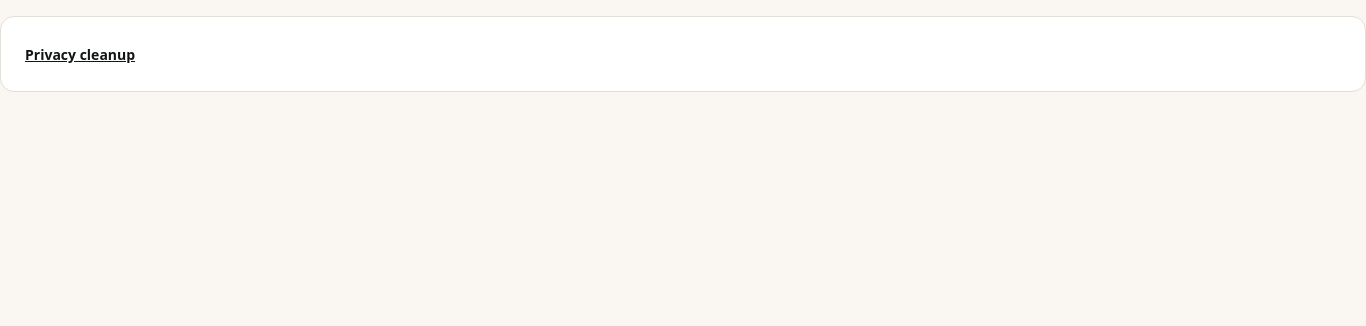
Scenario: operator privacy cleanup › keeps failed manual work actionable without exposing error details
Click the button "Privacy cleanup" at (80,55), box [25,45,135,65]
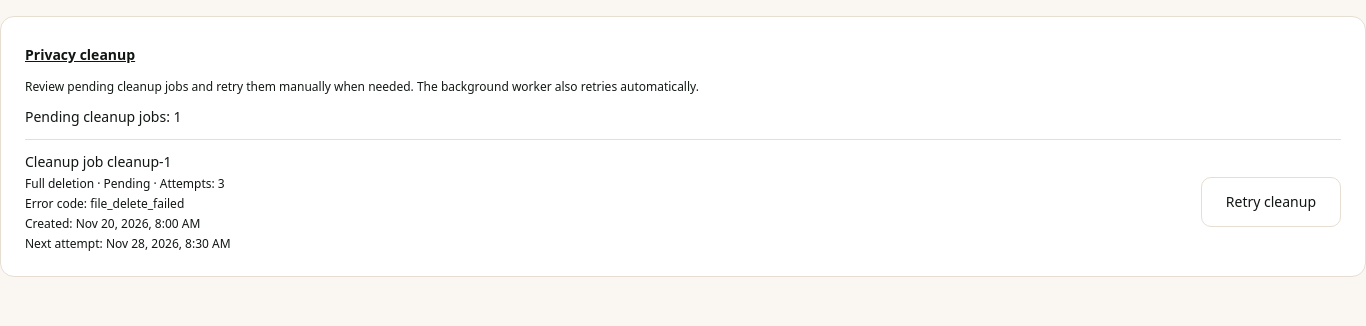
Click the button "Retry cleanup" at (1271,202), box [1201,177,1341,227]
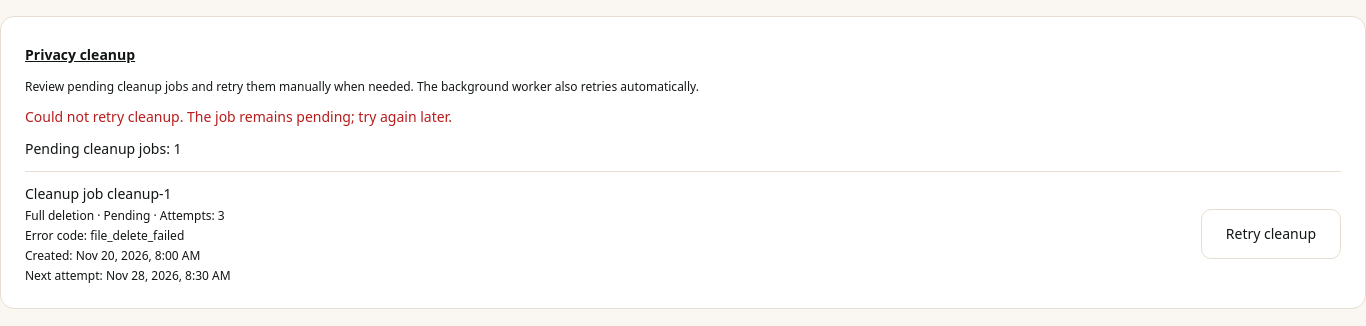
Check: the button "Retry cleanup" is enabled, box [1201,209,1341,259]
Check: the message reads "Could not retry cleanup. The job remains pending; try again later.", box [25,107,452,126]
